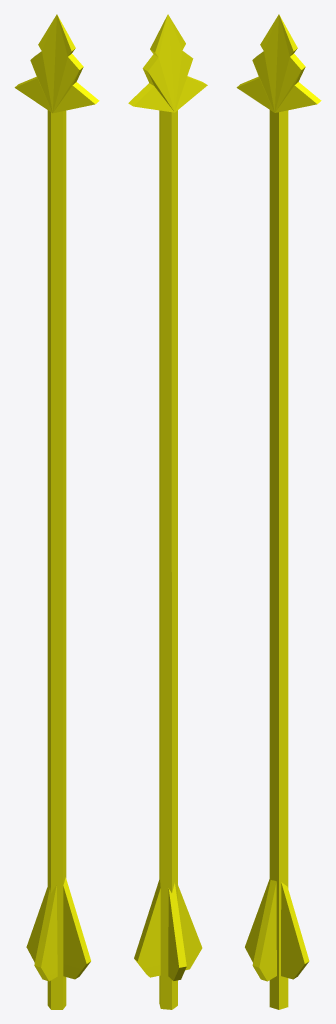
File: _arrow_c_3.glb
The picture shows the model from 3 angles, left to right: view 1: azimuth 90°, elevation 25°; view 2: azimuth 150°, elevation 25°; view 3: azimuth 270°, elevation 25°; orthographic projection.
Visible parts, largest first — view 1: arrow_c_3; view 2: arrow_c_3; view 3: arrow_c_3.
Boxes of the visible parts, left/top/right/bottom form: arrow_c_3: left=14, top=14, right=99, bottom=1009; arrow_c_3: left=128, top=14, right=207, bottom=1009; arrow_c_3: left=236, top=14, right=321, bottom=1009.
Size of the model in its own units: 0.034 by 0.5854 by 0.0455.
Materials: 1 (1 with a texture image).
